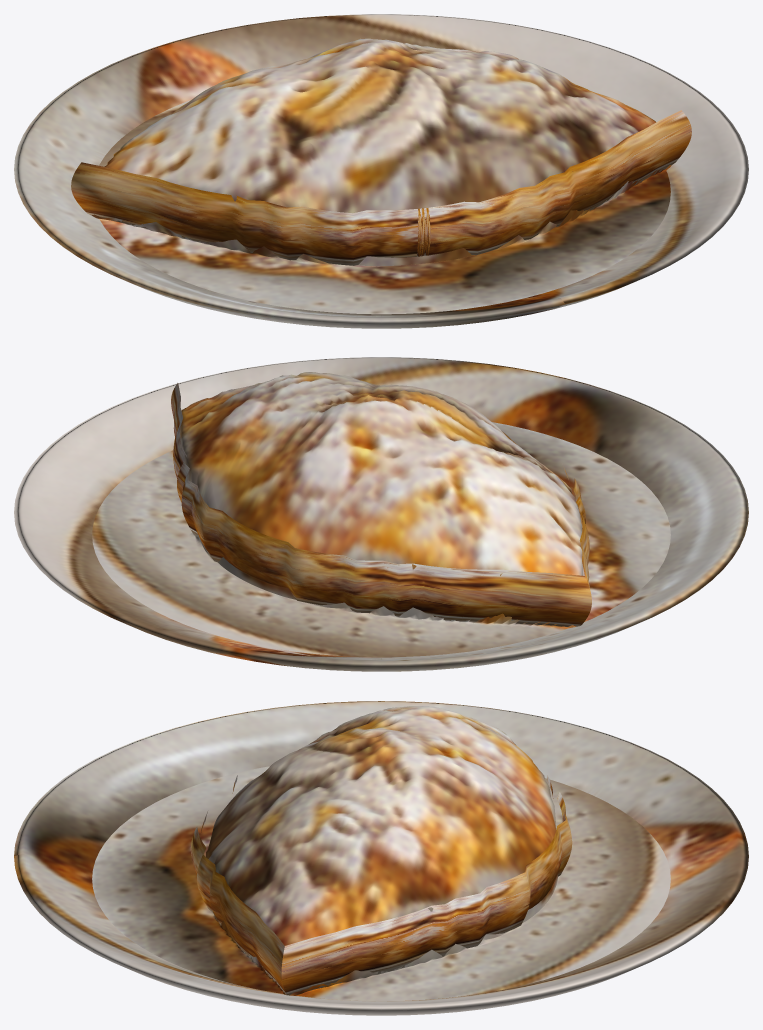
The model's file is almond-croissant.glb.
3 views of the same model, one above another, from view 1: azimuth 30°, elevation 25°; view 2: azimuth 150°, elevation 25°; view 3: azimuth 270°, elevation 25° (orthographic).
Visible parts, largest first — view 1: PhotoSculptedAlmondCroissantCrown, SpeckledPastryPlate, LaminatedCroissantLowerCrust; view 2: PhotoSculptedAlmondCroissantCrown, SpeckledPastryPlate, LaminatedCroissantLowerCrust; view 3: PhotoSculptedAlmondCroissantCrown, SpeckledPastryPlate, LaminatedCroissantLowerCrust.
Boxes of the visible parts, bbox=[...] form: PhotoSculptedAlmondCroissantCrown: bbox=[92, 38, 671, 314]; SpeckledPastryPlate: bbox=[14, 14, 748, 328]; LaminatedCroissantLowerCrust: bbox=[71, 110, 691, 265]; PhotoSculptedAlmondCroissantCrown: bbox=[92, 372, 670, 657]; SpeckledPastryPlate: bbox=[14, 357, 748, 671]; LaminatedCroissantLowerCrust: bbox=[171, 383, 591, 626]; PhotoSculptedAlmondCroissantCrown: bbox=[92, 706, 670, 1001]; SpeckledPastryPlate: bbox=[14, 701, 748, 1015]; LaminatedCroissantLowerCrust: bbox=[190, 775, 572, 995].
Bounding box in the file's own units: 3.4 × 0.7981 × 3.4.
Materials: 3 (3 with a texture image).
